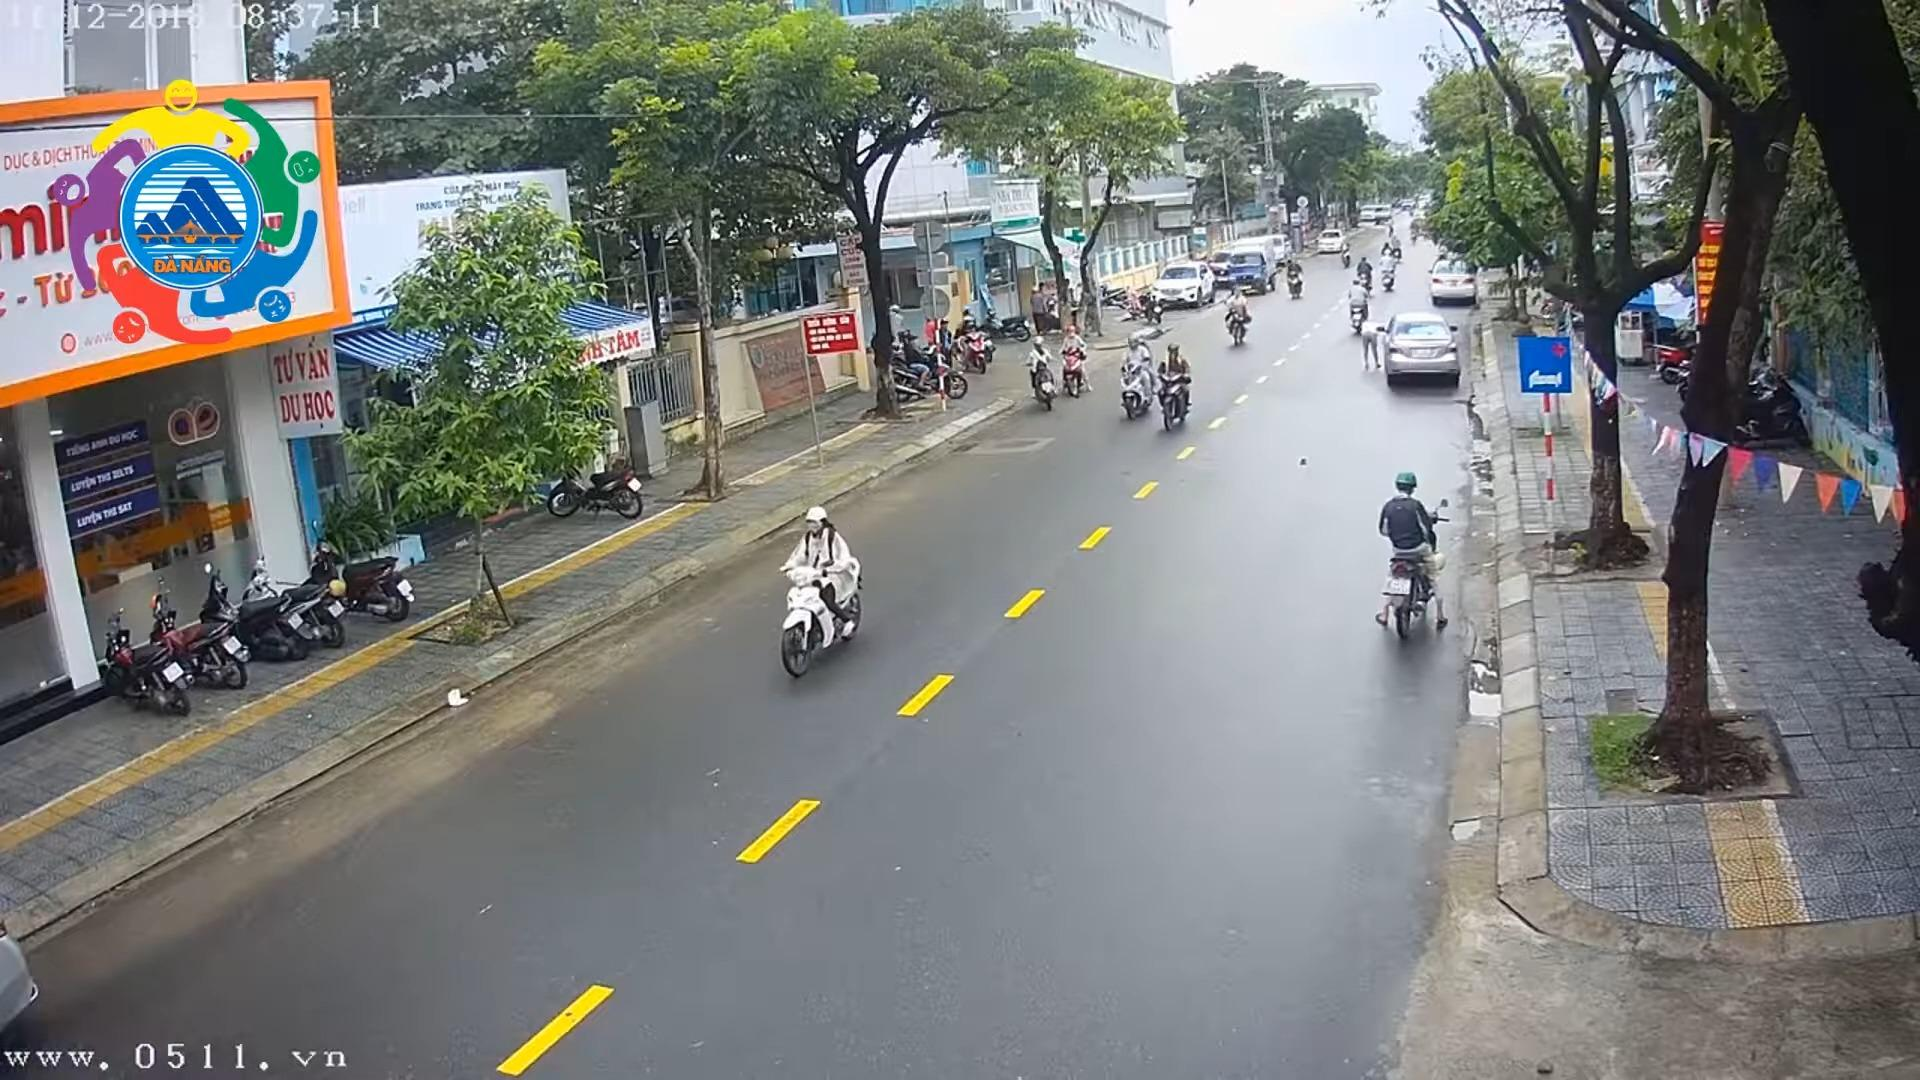car: (1386, 309, 1472, 392), (1155, 256, 1220, 310)
motorcycle: (753, 495, 885, 687), (1365, 468, 1461, 650), (136, 580, 260, 703), (302, 526, 421, 634), (98, 608, 207, 723), (206, 560, 303, 669), (535, 440, 649, 533), (252, 549, 348, 649), (876, 323, 969, 409), (1108, 327, 1160, 421), (1158, 340, 1208, 435), (1018, 334, 1062, 418), (1058, 318, 1095, 406), (1221, 287, 1257, 359), (1338, 278, 1375, 338), (1283, 251, 1312, 303), (1377, 245, 1406, 297), (1354, 251, 1377, 297), (1336, 237, 1354, 272)
truck: (1225, 228, 1288, 298)
